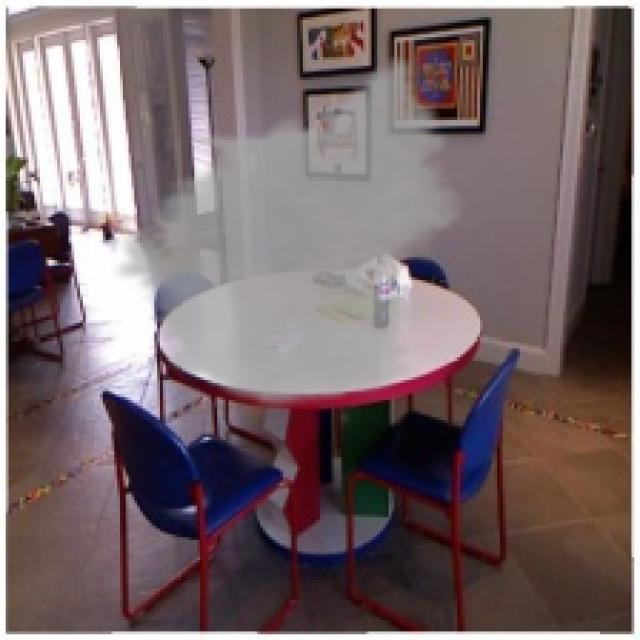Smoke: (108, 54, 474, 412)
